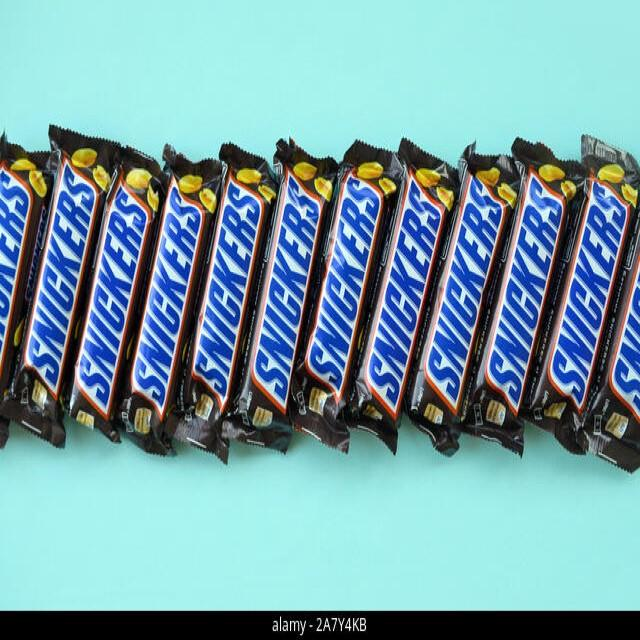snickers_chocolate: (548, 160, 632, 445), (495, 145, 562, 447), (380, 148, 447, 424), (327, 124, 383, 448), (198, 155, 247, 450), (264, 157, 314, 445), (425, 175, 475, 447), (97, 155, 143, 427), (52, 158, 88, 442), (142, 167, 178, 420)
